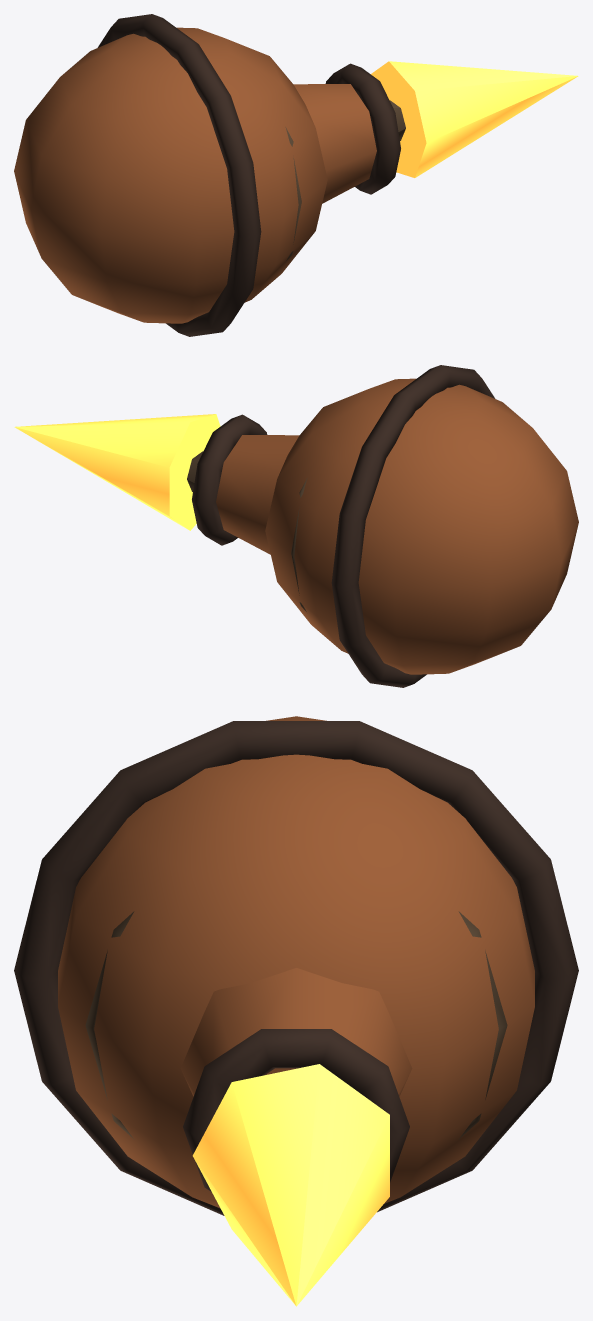
The model's file is fire-pot.glb.
The picture shows the model from 3 angles, top to bottom: view 1: azimuth 30°, elevation 25°; view 2: azimuth 150°, elevation 25°; view 3: azimuth 270°, elevation 25°; orthographic projection. The views are drawn at different scales.
Visible parts, largest first — view 1: Mesh_Body, Mesh_Flame, Mesh_Band, Mesh_Neck, Mesh_Lip; view 2: Mesh_Body, Mesh_Flame, Mesh_Band, Mesh_Neck, Mesh_Lip; view 3: Mesh_Body, Mesh_Band, Mesh_Flame, Mesh_Neck, Mesh_Lip, Mesh_Cord.
Boxes of the visible parts, x1,y1,x2,y2 form: Mesh_Body: (14,27,327,323); Mesh_Flame: (371,61,578,177); Mesh_Band: (97,14,261,336); Mesh_Neck: (293,84,376,203); Mesh_Lip: (325,63,400,194); Mesh_Body: (265,378,578,674); Mesh_Flame: (14,414,220,530); Mesh_Band: (331,365,495,687); Mesh_Neck: (216,435,299,554); Mesh_Lip: (192,414,267,545); Mesh_Body: (58,716,534,1208); Mesh_Band: (14,721,578,1215); Mesh_Flame: (192,1064,389,1306); Mesh_Neck: (180,968,412,1096); Mesh_Lip: (183,1029,409,1191); Mesh_Cord: (85,911,507,1139).
Bounding box in the file's own units: 1.64 × 0.8482 × 0.87.
